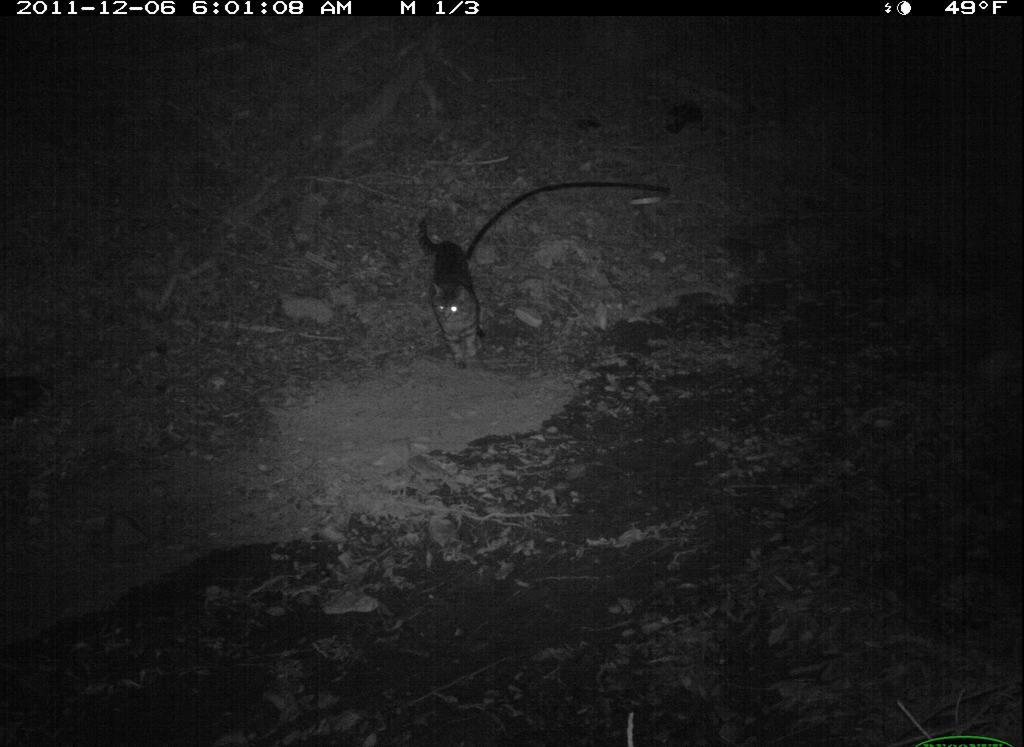cat: (414, 213, 488, 379)
